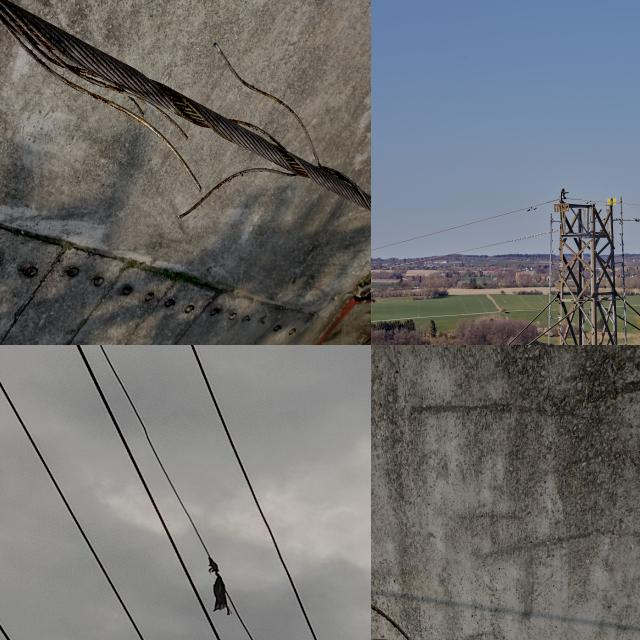杆塔: (447, 173, 640, 345)
植被遮挡: (200, 551, 236, 623)
电缆破损: (19, 0, 371, 210), (371, 502, 640, 640)
